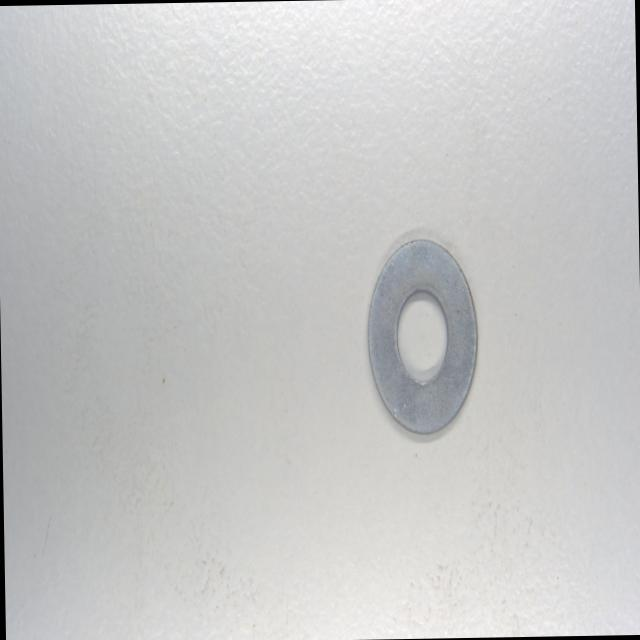washer: (362, 232, 482, 438)
